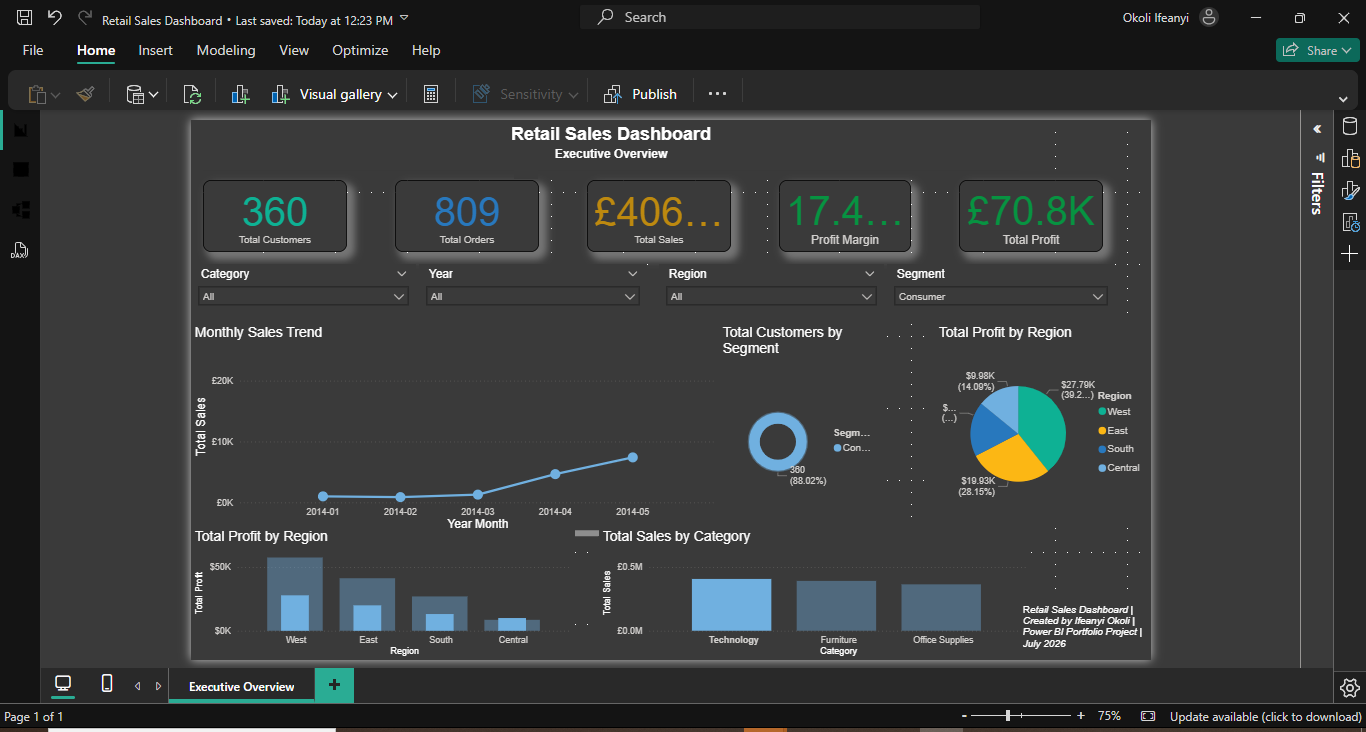

What the dashboard file says about the page in this screenshot:
{"tool":"powerbi","page":{"name":"Executive Overview","canvas":[1280,720],"ordinal":0},"visuals":[{"type":"textbox","box":[16,0,1088,56],"z":0},{"type":"textbox","box":[16,32,1088,35],"z":1000},{"type":"card","fields":{"Values":["Measure Table.Total Customers"]},"box":[16,80,192,96],"z":2000},{"type":"card","fields":{"Values":["Measure Table.Total Orders"]},"box":[272,80,192,96],"z":3000},{"type":"card","fields":{"Values":["Measure Table.Profit Margin"]},"box":[784,80,176,96],"z":4000},{"type":"card","fields":{"Values":["Measure Table.Total Sales"]},"box":[528,80,192,96],"z":5000},{"type":"card","fields":{"Values":["Measure Table.Total Profit"]},"box":[1024,80,192,96],"z":6000},{"type":"lineChart","title":"Monthly Sales Trend","fields":{"Category":["Calendar.Year Month"],"Y":["Measure Table.Total Sales"]},"box":[0,272,704,288],"z":7000},{"type":"clusteredColumnChart","fields":{"Y":["Measure Table.Total Sales"],"Category":["sales.Category"]},"box":[544,544,576,176],"z":8000},{"type":"slicer","fields":{"Values":["Calendar.Year"]},"box":[304,192,304,80],"z":9000},{"type":"slicer","fields":{"Values":["sales.Region"]},"box":[624,192,300,80],"z":10000},{"type":"slicer","fields":{"Values":["sales.Segment"]},"box":[928,192,304,80],"z":11000},{"type":"slicer","fields":{"Values":["sales.Category"]},"box":[0,192,300,80],"z":12000},{"type":"clusteredColumnChart","fields":{"Category":["sales.Region"],"Y":["Measure Table.Total Profit"]},"box":[0,544,512,176],"z":13000},{"type":"textbox","box":[1104,640,176,80],"z":13001},{"type":"donutChart","fields":{"Category":["sales.Segment"],"Y":["Measure Table.Total Customers"]},"box":[704,272,220,272],"z":13002},{"type":"pieChart","fields":{"Category":["sales.Region"],"Y":["Measure Table.Total Profit"]},"box":[992,272,288,272],"z":13003}]}

Visuals, with their boxes on the page's 1280x720 design canvas (x1, y1, x2, y2). These are canvas units, not pixel positions in the 1366x732 screenshot, which may show the page scaled, cropped or inside an application window:
textbox: 16 0 1104 56
textbox: 16 32 1104 67
card - Measure Table.Total Customers: 16 80 208 176
card - Measure Table.Total Orders: 272 80 464 176
card - Measure Table.Profit Margin: 784 80 960 176
card - Measure Table.Total Sales: 528 80 720 176
card - Measure Table.Total Profit: 1024 80 1216 176
"Monthly Sales Trend" lineChart: 0 272 704 560
clusteredColumnChart - Measure Table.Total Sales x sales.Category: 544 544 1120 720
slicer - Calendar.Year: 304 192 608 272
slicer - sales.Region: 624 192 924 272
slicer - sales.Segment: 928 192 1232 272
slicer - sales.Category: 0 192 300 272
clusteredColumnChart - sales.Region x Measure Table.Total Profit: 0 544 512 720
textbox: 1104 640 1280 720
donutChart - sales.Segment x Measure Table.Total Customers: 704 272 924 544
pieChart - sales.Region x Measure Table.Total Profit: 992 272 1280 544
